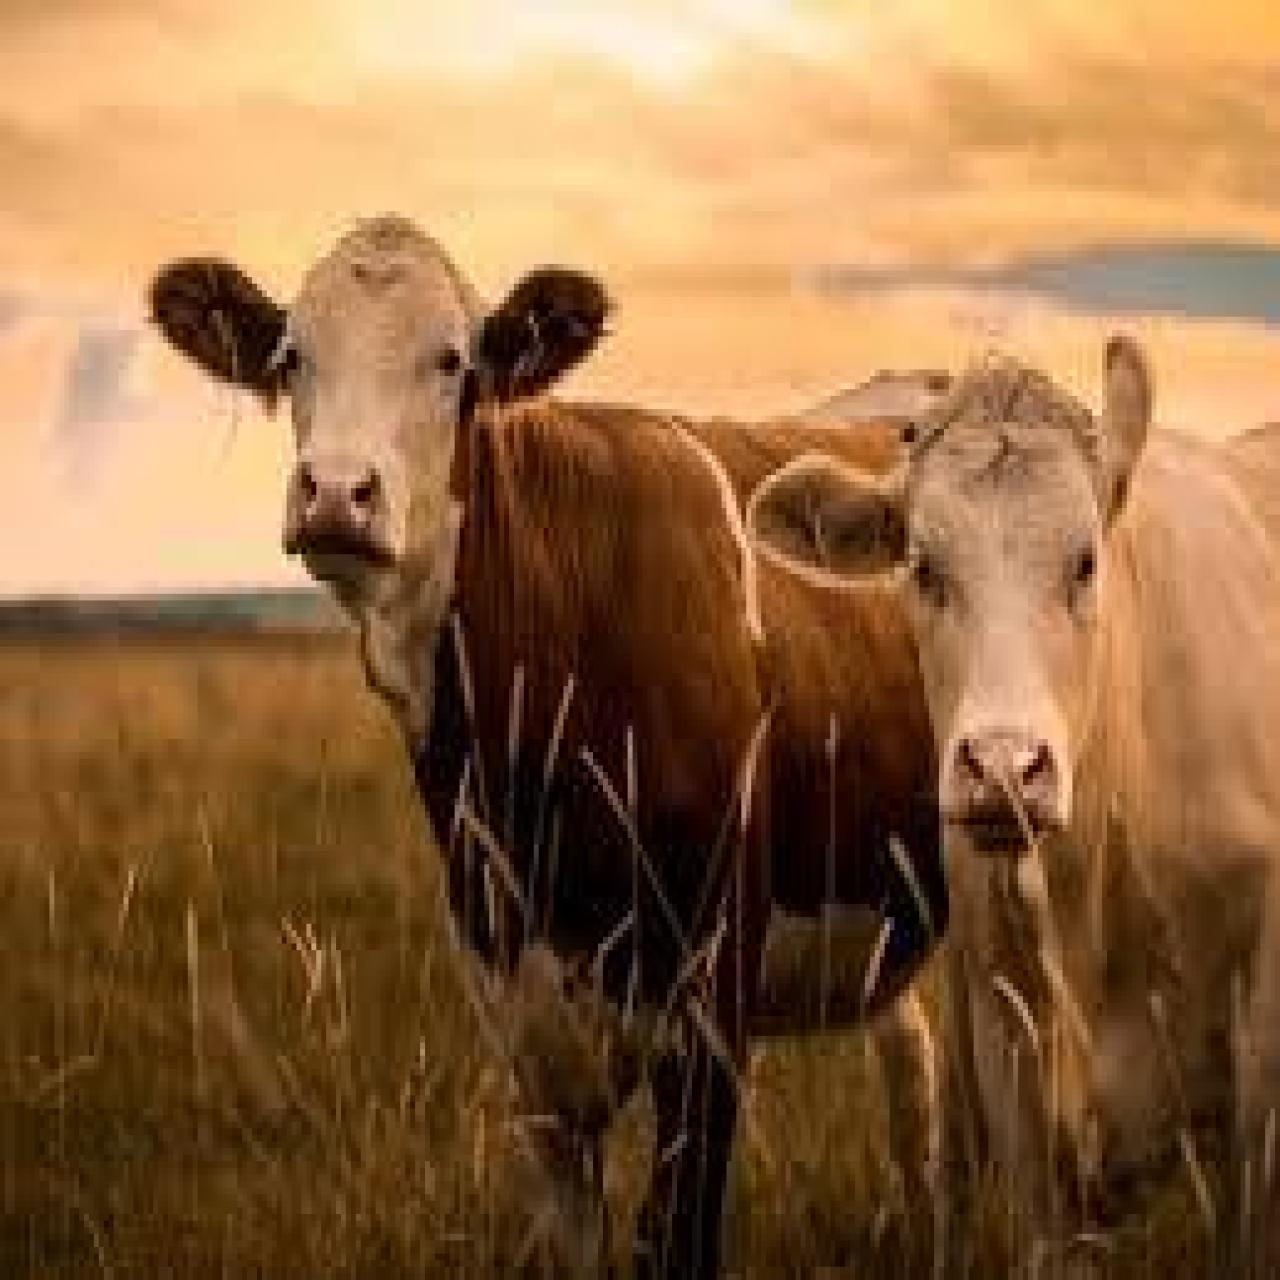cow: (143, 211, 964, 1280), (741, 324, 1280, 1280)
